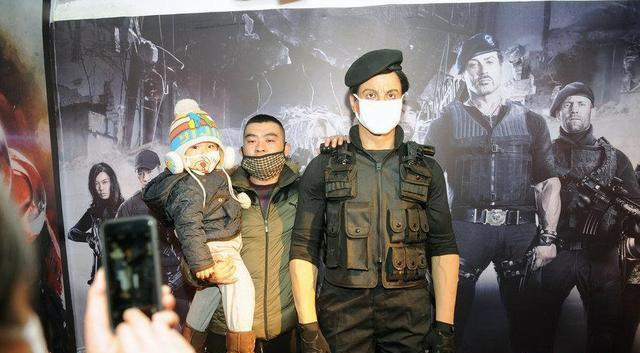NONE: (467, 59, 500, 94), (562, 100, 591, 132), (93, 179, 113, 200), (140, 169, 159, 191)
OK: (358, 87, 402, 131), (186, 137, 222, 173)
WRONG: (241, 130, 288, 177)
